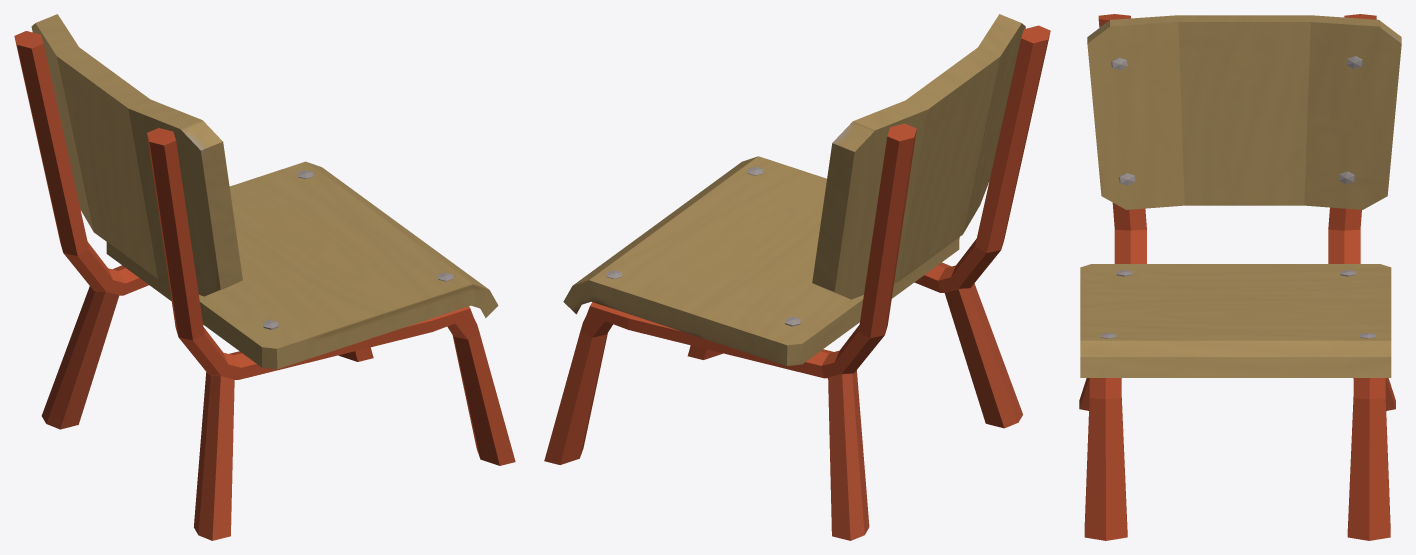
File: ChaiseEnfant.FBX
3 renders of one model, left to right at view 1: azimuth 30°, elevation 25°; view 2: azimuth 150°, elevation 25°; view 3: azimuth 270°, elevation 25°, orthographic. The views are drawn at different scales.
Parts seen in each view (by area): view 1: Object003; view 2: Object003; view 3: Object003.
Part boxes in pixels (left/top/right/bottom): Object003: left=14, top=14, right=515, bottom=540; Object003: left=544, top=14, right=1050, bottom=540; Object003: left=1079, top=14, right=1401, bottom=540.
Size of the model in its own units: 74.21 by 80.67 by 62.47.
